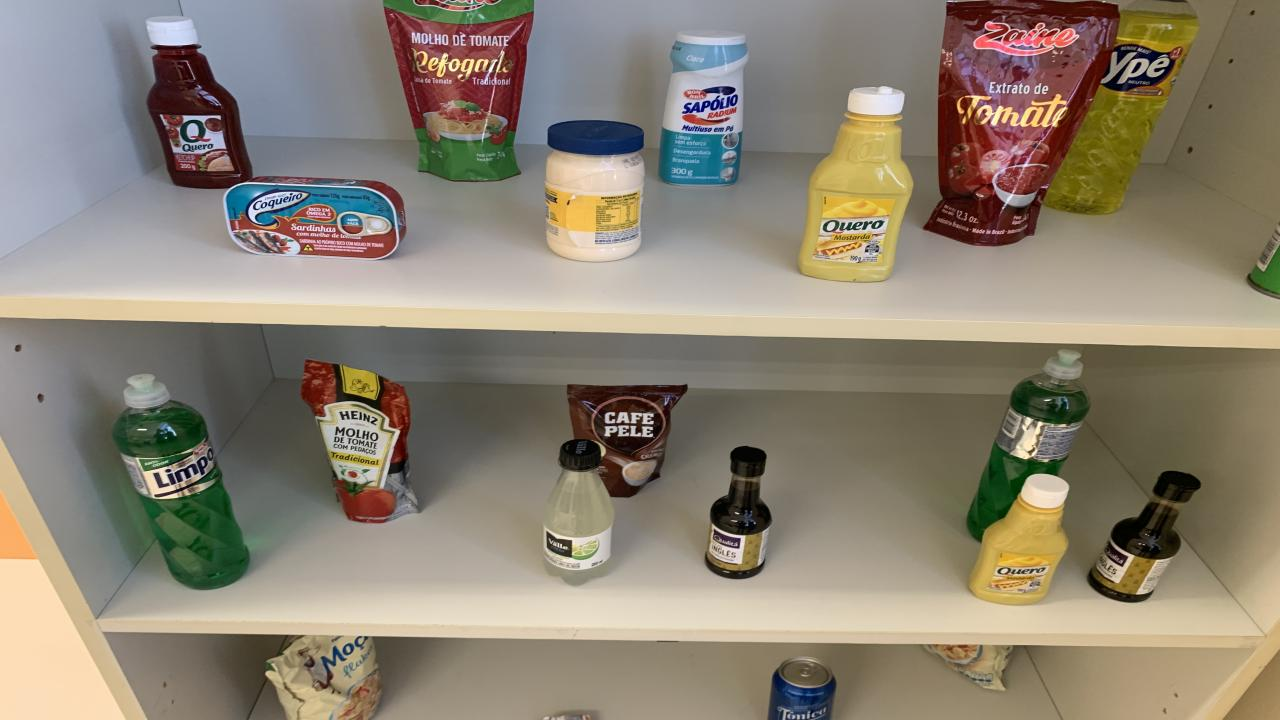Cleaner-Cleanup_Items: (660, 32, 748, 186)
Coffee-Pantry_Items: (568, 384, 688, 497)
Detergent-Cleanup_Items: (1045, 0, 1200, 214), (112, 375, 250, 589), (968, 371, 1090, 540), (1048, 349, 1082, 375)
English_Sauce-Pantry_Items: (1088, 471, 1200, 602), (705, 446, 772, 578)
Flakes-Snacks: (265, 636, 380, 720), (925, 645, 1012, 690)
Ketchup-Pantry_Items: (145, 17, 252, 188)
Mayonnaise-Pantry_Items: (545, 120, 645, 262)
Mustard-Pantry_Items: (798, 86, 912, 281), (970, 474, 1070, 604)
Soda-Drinks: (542, 439, 615, 585)
Tomato_Sauce-Pantry_Items: (925, 0, 1120, 246), (385, 0, 535, 180), (300, 360, 420, 523)
Tonic-Drinks: (768, 656, 838, 720)
Tuna_Can-Pantry_Items: (225, 176, 405, 259)
